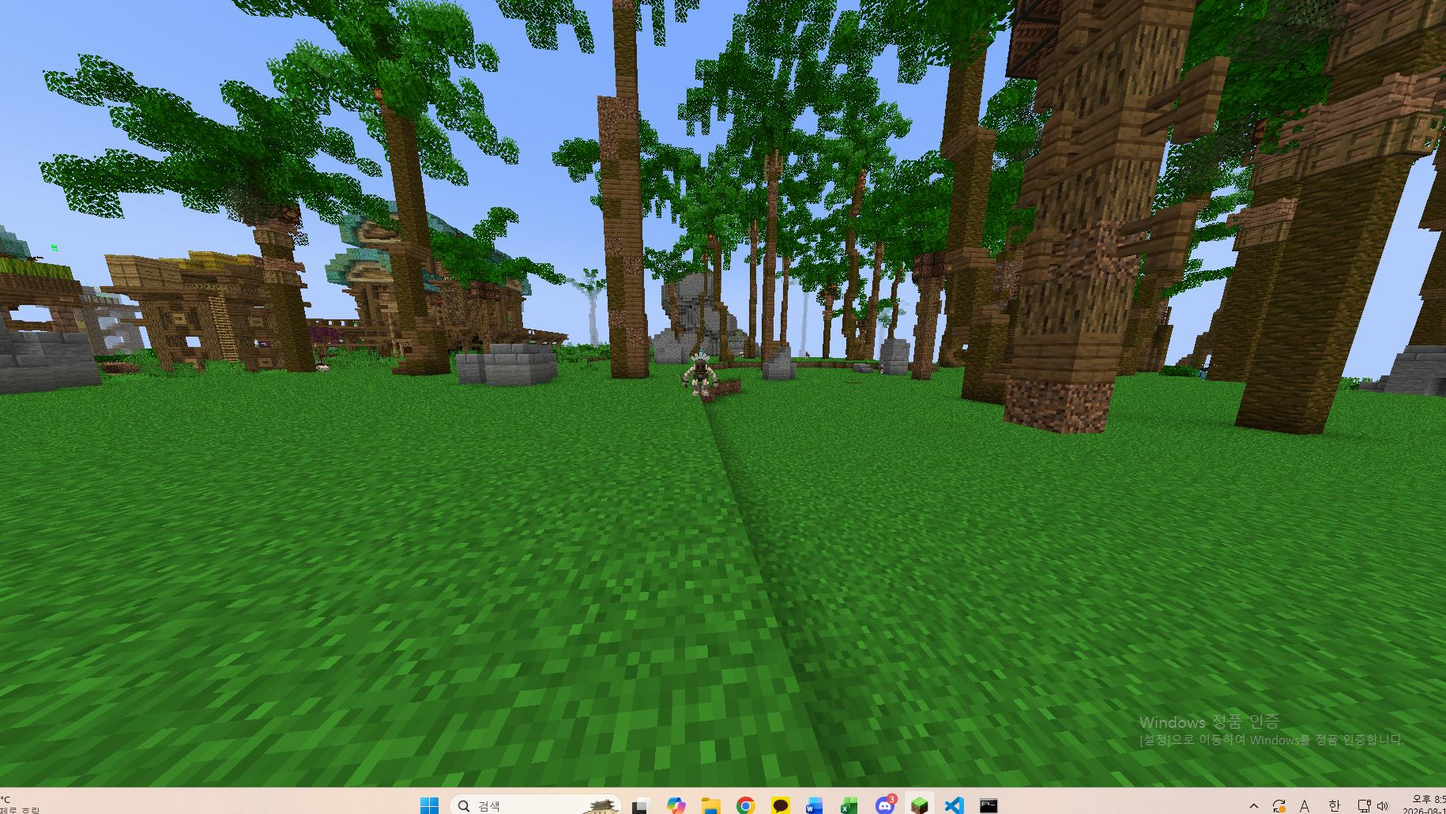bow_indian: (681, 349, 726, 406)
